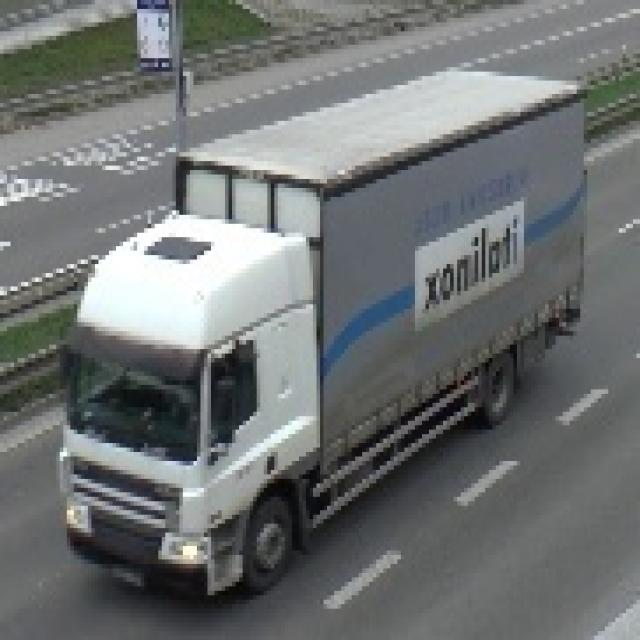Truck: (52, 58, 584, 600)
